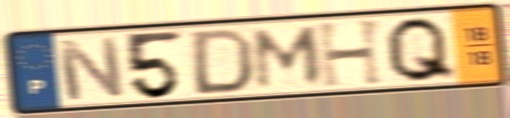5: (122, 28, 186, 101)
D: (190, 26, 257, 97)
H: (314, 16, 388, 90)
M: (252, 24, 325, 91)
N: (53, 35, 128, 103)
Q: (383, 14, 461, 85)
